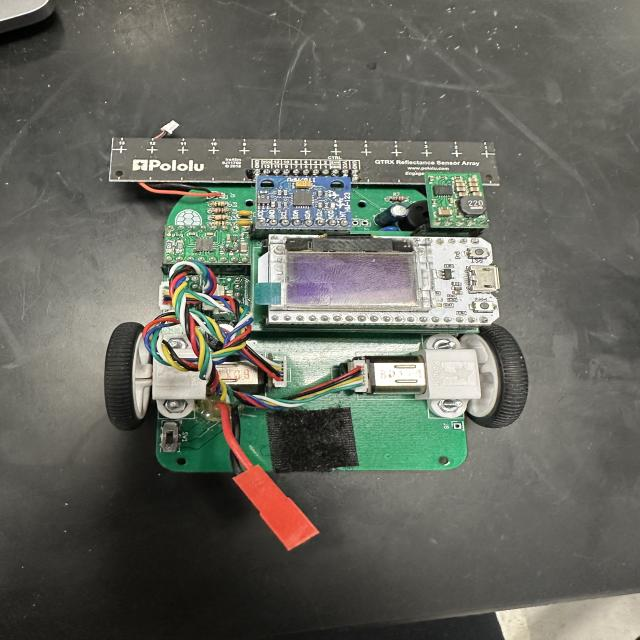robot: (102, 125, 530, 551)
